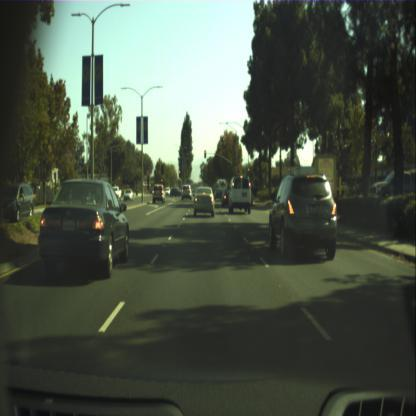Red: (204, 150, 206, 157), (160, 178, 162, 185), (178, 170, 180, 176), (236, 172, 238, 178)
Yellow: (248, 168, 249, 173)
